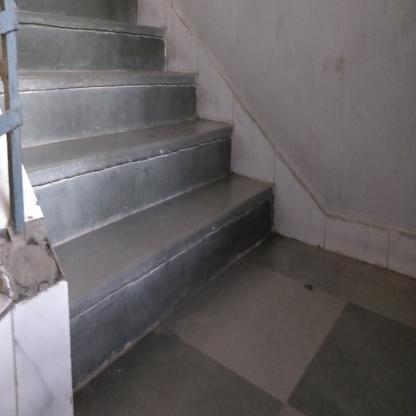stairs: (75, 66, 196, 387)
